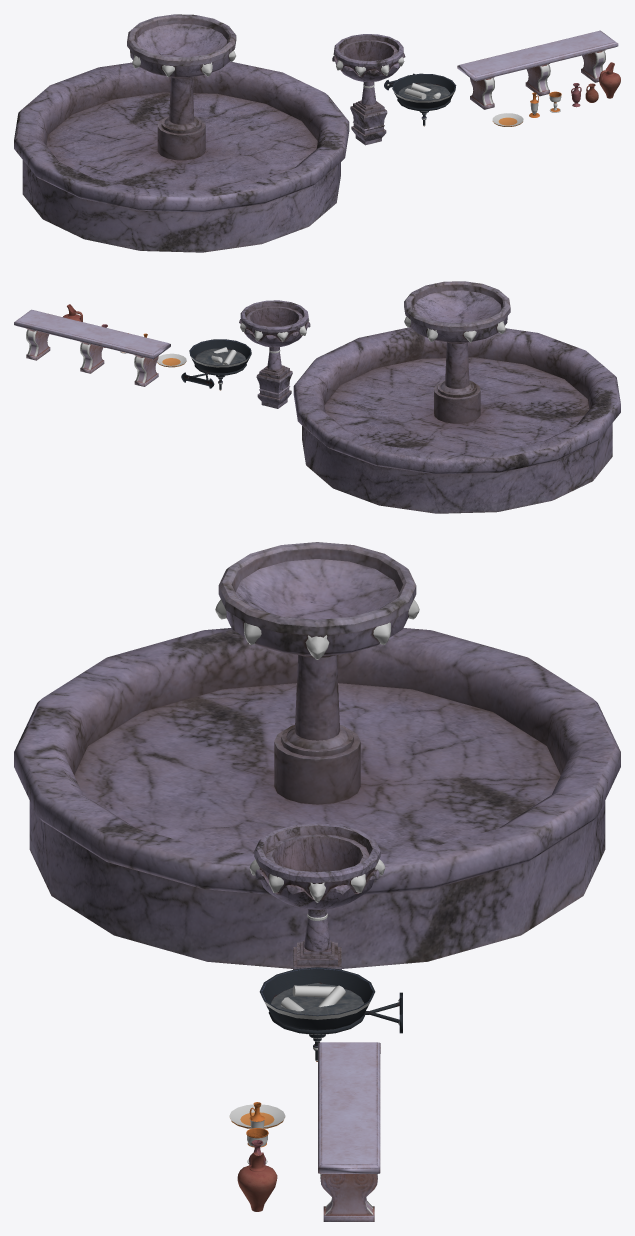
File: Ancient Roman bathhouse.fbx
The picture shows the model from 3 angles, top to bottom: view 1: azimuth 30°, elevation 25°; view 2: azimuth 150°, elevation 25°; view 3: azimuth 270°, elevation 25°; orthographic projection. The views are drawn at different scales.
Parts seen in each view (by area): view 1: Bas, Top (×2), Bench_Top, pCylinder33, Base, Top1, pCube13, pCube11, pCube12, pCylinder24, Ash, SM_Plate; view 2: Bas, Top (×2), Bench_Top, pCylinder33, Base, Top1, pCube13, pCube12, pCube11, Ash, SM_Plate; view 3: Bas, Top (×2), Bench_Top, pCylinder33, pCube12, Top1, pCylinder24, Ash, Base.
Boxes of the visible parts, x1,y1,x2,y2 form: Bas: (14, 61, 349, 252); Top (×2): (127, 14, 403, 160); Bench_Top: (457, 30, 618, 81); pCylinder33: (392, 73, 456, 126); Base: (350, 100, 387, 145); Top1: (332, 52, 405, 82); pCube13: (470, 77, 494, 105); pCube11: (526, 64, 550, 92); pCube12: (582, 51, 605, 78); pCylinder24: (599, 62, 620, 98); Ash: (398, 83, 450, 100); SM_Plate: (492, 113, 523, 126); Bas: (293, 327, 620, 513); Top (×2): (240, 281, 510, 423); Bench_Top: (14, 309, 170, 359); pCylinder33: (189, 339, 251, 390); Base: (256, 365, 292, 408); Top1: (239, 318, 310, 347); pCube13: (134, 356, 158, 382); pCube12: (26, 329, 49, 356); pCube11: (80, 342, 103, 369); Ash: (195, 348, 245, 364); SM_Plate: (157, 353, 186, 367); Bas: (14, 628, 620, 968); Top (×2): (218, 542, 416, 951); Bench_Top: (318, 1042, 380, 1173); pCylinder33: (259, 967, 375, 1061); pCube12: (320, 1174, 377, 1215); Top1: (255, 869, 379, 909); pCylinder24: (237, 1152, 277, 1211); Ash: (271, 983, 364, 1015); Base: (293, 940, 341, 969).
Size of the model in its own units: 1053 by 257 by 529.
